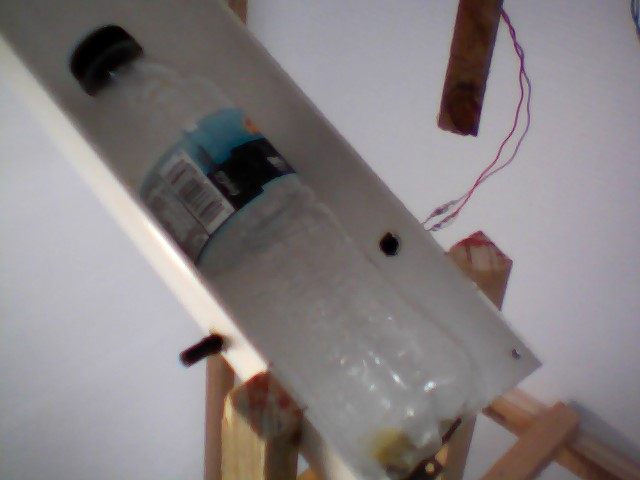plastico: (66, 10, 507, 480)
